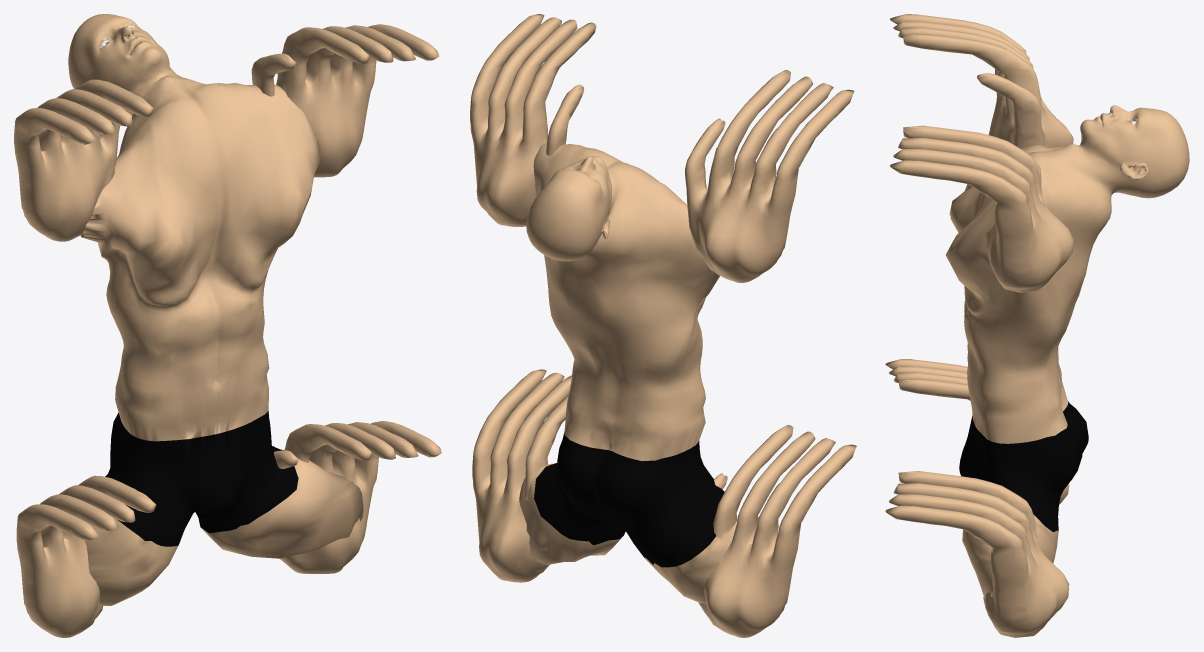
File: Meat Car.fbx
3 renders of one model, left to right at view 1: azimuth 30°, elevation 25°; view 2: azimuth 150°, elevation 25°; view 3: azimuth 270°, elevation 25°, orthographic. The views are drawn at different scales.
Visible parts, largest first — view 1: Body, Front Right, Front Left, Back Right, Back Left; view 2: Body, Front Right, Back Right, Front Left, Back Left; view 3: Body, Front Left, Back Left, Front Right, Back Right.
Part boxes in pixels (x1,y1,x2,y2): Body: (68, 14, 363, 605); Front Right: (14, 79, 153, 241); Front Left: (251, 24, 439, 177); Back Right: (16, 475, 156, 637); Back Left: (273, 421, 441, 573); Body: (519, 143, 737, 603); Front Right: (685, 70, 854, 282); Back Right: (698, 425, 856, 637); Front Left: (470, 14, 596, 226); Back Left: (472, 369, 571, 582); Body: (945, 105, 1189, 598); Front Left: (890, 125, 1073, 292); Back Left: (885, 471, 1069, 637); Front Right: (890, 14, 1073, 148); Back Right: (885, 359, 1069, 504).
Size of the model in its own units: 28025 by 42667 by 23556.
